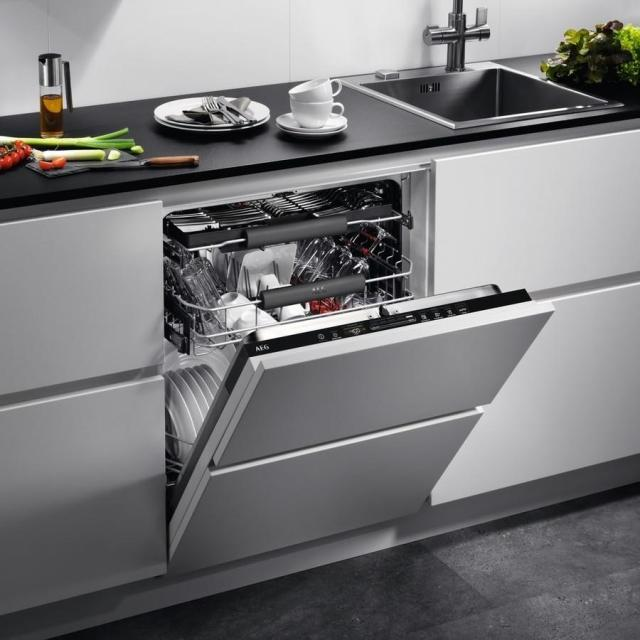dishwasher: (162, 165, 556, 593)
